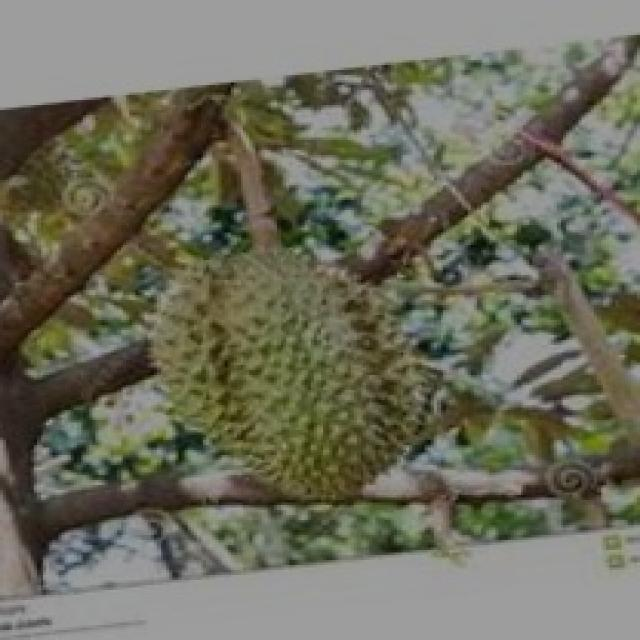fruit: (101, 208, 468, 528)
